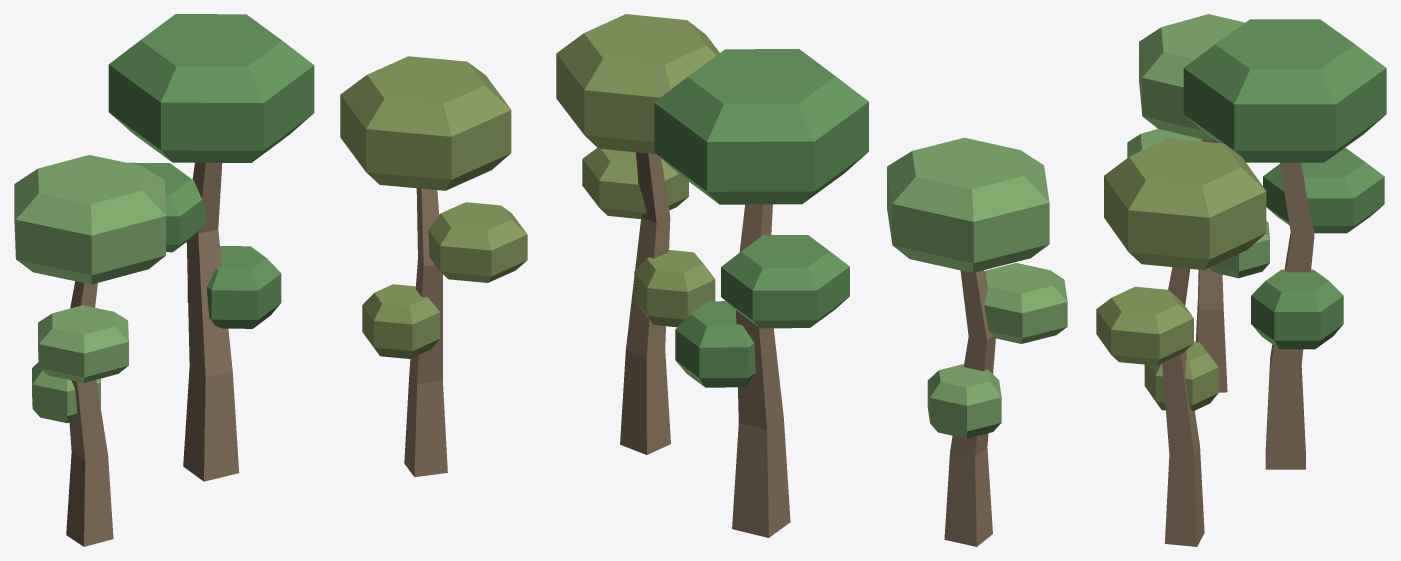
Rendered from veg_forest_edge.glb.
3 views of the same model, side by side, from view 1: azimuth 30°, elevation 25°; view 2: azimuth 150°, elevation 25°; view 3: azimuth 270°, elevation 25° (orthographic). The views are drawn at different scales.
Parts seen in each view (by area): view 1: clump_0, clump_2, clump_1; view 2: clump_0, clump_1, clump_2; view 3: clump_0, clump_2, clump_1.
Boxes of the visible parts, <box> form: clump_0: <box>108,14,314,481</box>; clump_2: <box>340,56,527,477</box>; clump_1: <box>14,155,165,546</box>; clump_0: <box>654,49,868,537</box>; clump_1: <box>887,137,1067,546</box>; clump_2: <box>556,14,719,454</box>; clump_0: <box>1183,19,1386,469</box>; clump_2: <box>1096,138,1266,546</box>; clump_1: <box>1127,14,1269,392</box>.
Bounding box in the file's own units: 1.62 × 1.41 × 0.89.
